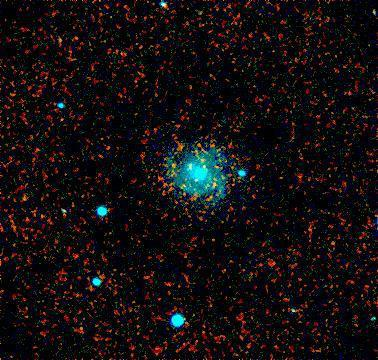star: (182, 152, 212, 182)
